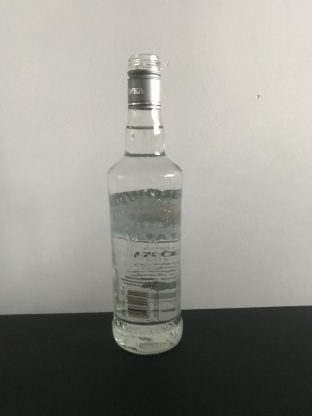nakretka: (125, 51, 163, 110)
